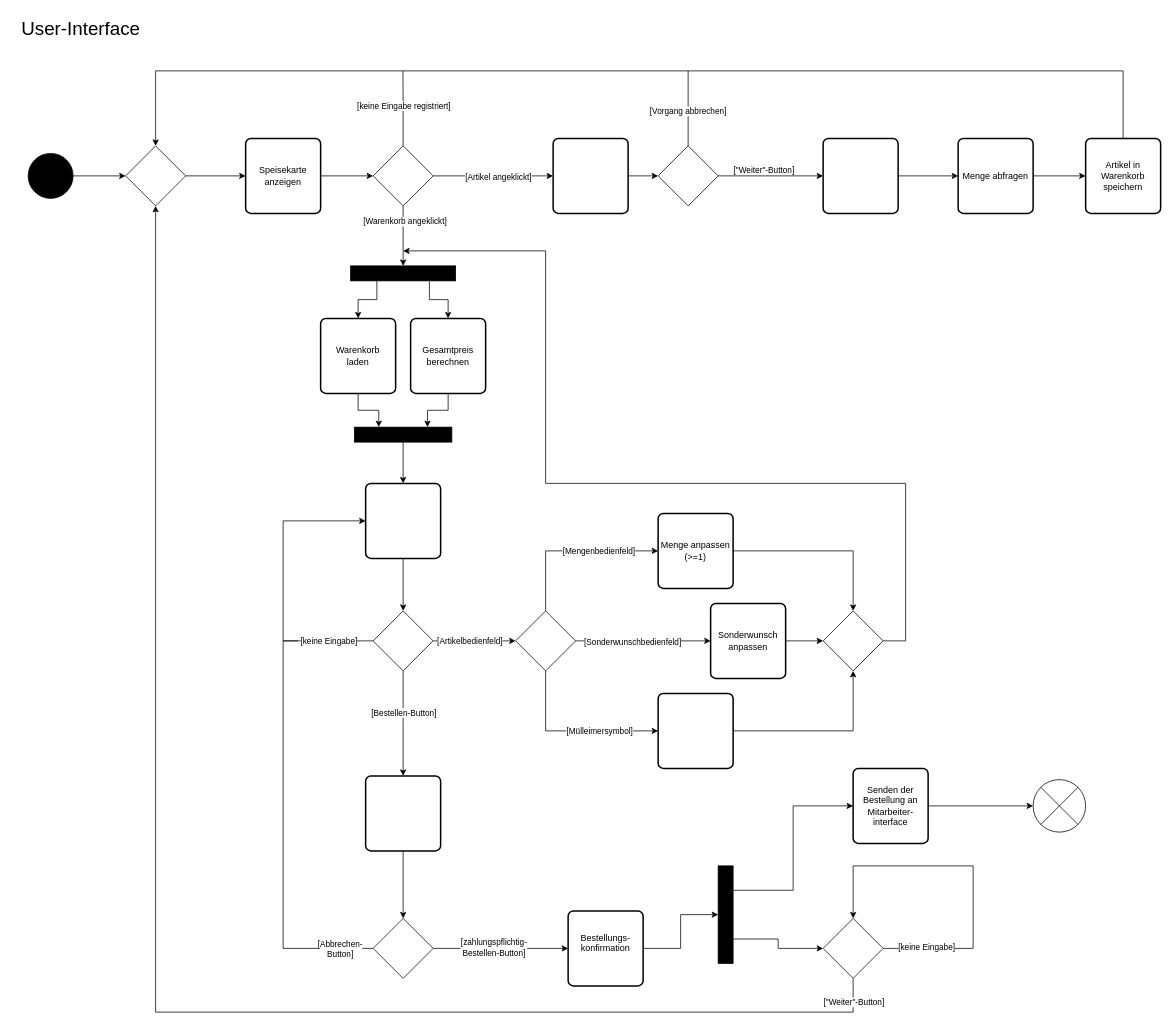
The diagram is 1174 pixels wide and 1031 high, and some of its shapes have lost their labels. The shapes that lost their labels are listed below. From the top down, each one's centre as x and y in pixels, then its label:
At (x=590, y=175): "ausgewählten Artikel anzeigen".
At (x=860, y=175): "Sonderwünsche abfragen".
At (x=402, y=520): "Warenkorb anzeigen".
At (x=695, y=730): "Artikel löschen".
At (x=402, y=813): "Zusammenfassung der Artikel im Warenkorb".
